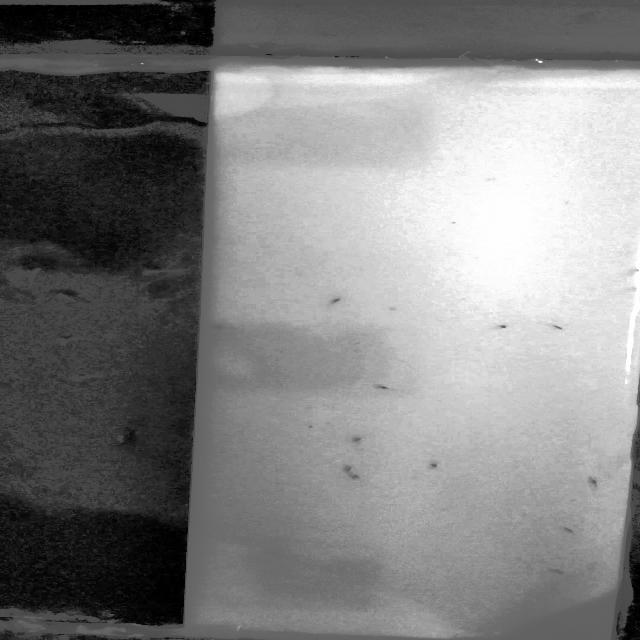shrimp: (576, 474, 612, 491), (556, 521, 588, 537), (365, 379, 394, 395), (491, 317, 513, 334), (336, 458, 359, 474), (328, 292, 348, 308), (344, 471, 373, 482), (548, 563, 573, 574), (347, 434, 368, 446), (207, 320, 231, 330), (548, 321, 569, 332), (418, 460, 443, 469)
